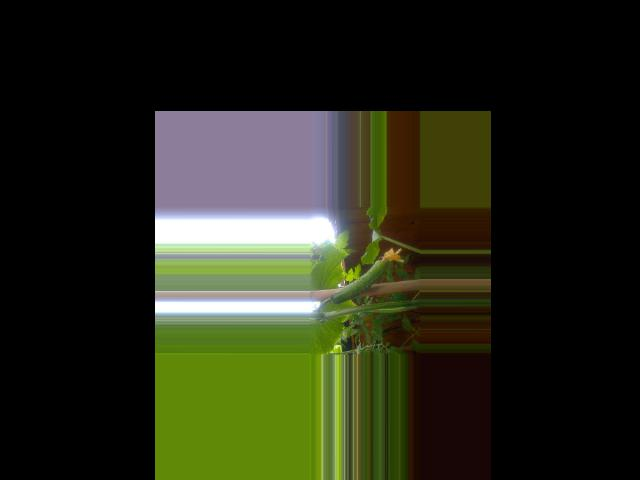cucumber: (330, 247, 404, 303)
